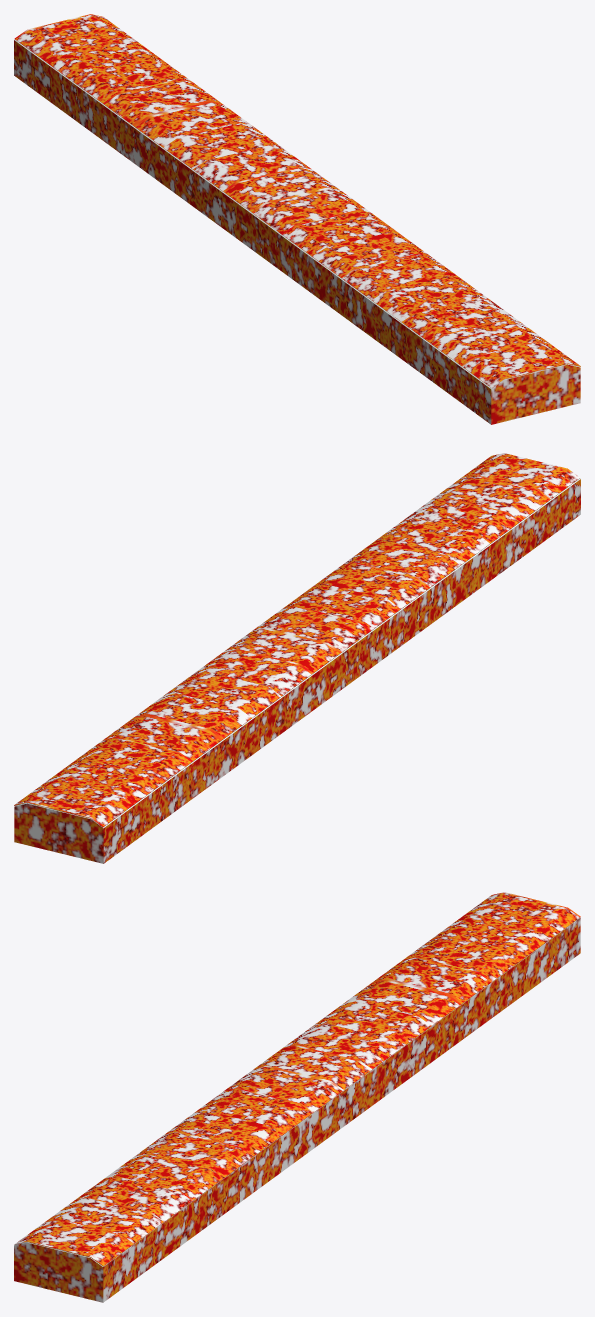
Rendered from PaslıPlatform.fbx.
The picture shows the model from 3 angles, top to bottom: view 1: azimuth 30°, elevation 25°; view 2: azimuth 150°, elevation 25°; view 3: azimuth 330°, elevation 25°; orthographic projection.
Parts seen in each view (by area): view 1: paslıZemin, PaslıPlaka.004, PaslıPlaka.001, PaslıPlaka.015, PaslıPlaka.014, PaslıPlaka.005, PaslıPlaka.006, PaslıPlaka.008, PaslıPlaka.002, PaslıPlaka.011, PaslıPlaka, PaslıPlaka.003 (+5 smaller); view 2: paslıZemin, PaslıPlaka.015, PaslıPlaka.004, PaslıPlaka.014, PaslıPlaka.001, PaslıPlaka.009, PaslıPlaka.005, PaslıPlaka.003, PaslıPlaka.002, PaslıPlaka.008, PaslıPlaka, PaslıPlaka.007 (+5 smaller); view 3: paslıZemin, PaslıPlaka.004, PaslıPlaka.015, PaslıPlaka.003, PaslıPlaka.009, PaslıPlaka.014, PaslıPlaka.001, PaslıPlaka.005, PaslıPlaka, PaslıPlaka.007, PaslıPlaka.002, PaslıPlaka.008 (+5 smaller).
Part boxes in pixels (bbox=[...]): paslıZemin: bbox=[14, 39, 580, 424]; PaslıPlaka.004: bbox=[462, 341, 580, 388]; PaslıPlaka.001: bbox=[431, 319, 549, 365]; PaslıPlaka.015: bbox=[14, 14, 133, 60]; PaslıPlaka.014: bbox=[45, 36, 163, 82]; PaslıPlaka.005: bbox=[312, 232, 430, 278]; PaslıPlaka.006: bbox=[282, 210, 400, 256]; PaslıPlaka.008: bbox=[223, 167, 340, 212]; PaslıPlaka.002: bbox=[401, 298, 519, 343]; PaslıPlaka.011: bbox=[134, 101, 251, 147]; PaslıPlaka: bbox=[372, 276, 489, 321]; PaslıPlaka.003: bbox=[342, 254, 460, 300]; paslıZemin: bbox=[14, 478, 580, 863]; PaslıPlaka.015: bbox=[14, 780, 132, 827]; PaslıPlaka.004: bbox=[461, 453, 580, 499]; PaslıPlaka.014: bbox=[45, 758, 163, 804]; PaslıPlaka.001: bbox=[431, 475, 549, 521]; PaslıPlaka.009: bbox=[193, 649, 311, 696]; PaslıPlaka.005: bbox=[312, 562, 430, 609]; PaslıPlaka.003: bbox=[342, 540, 460, 587]; PaslıPlaka.002: bbox=[401, 496, 519, 543]; PaslıPlaka.008: bbox=[223, 627, 341, 674]; PaslıPlaka: bbox=[372, 518, 489, 565]; PaslıPlaka.007: bbox=[252, 606, 370, 652]; paslıZemin: bbox=[14, 917, 580, 1302]; PaslıPlaka.004: bbox=[14, 1219, 133, 1266]; PaslıPlaka.015: bbox=[462, 892, 580, 938]; PaslıPlaka.003: bbox=[135, 1132, 253, 1178]; PaslıPlaka.009: bbox=[284, 1023, 402, 1069]; PaslıPlaka.014: bbox=[432, 914, 550, 960]; PaslıPlaka.001: bbox=[45, 1198, 163, 1243]; PaslıPlaka.005: bbox=[165, 1110, 283, 1156]; PaslıPlaka: bbox=[105, 1154, 223, 1199]; PaslıPlaka.007: bbox=[224, 1067, 342, 1112]; PaslıPlaka.002: bbox=[75, 1176, 193, 1221]; PaslıPlaka.008: bbox=[254, 1045, 372, 1090].
Bounding box in the file's own units: 0.5738 × 0.2615 × 5.29.
